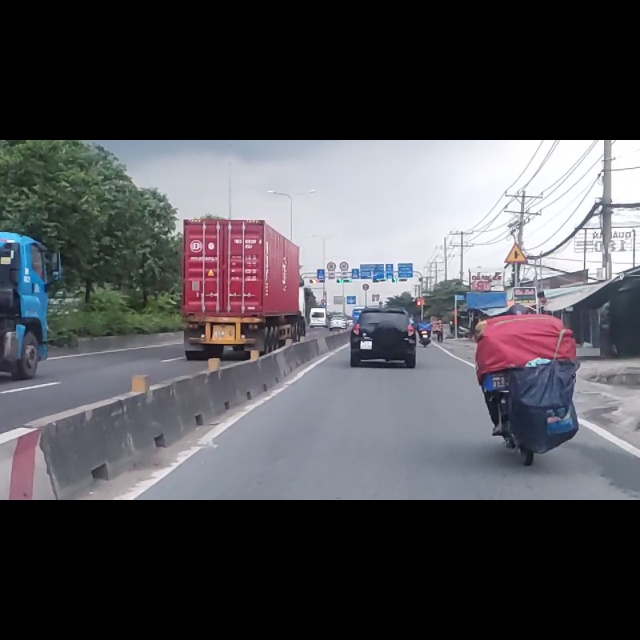bien_nguy_hiem: (504, 181, 528, 220)
